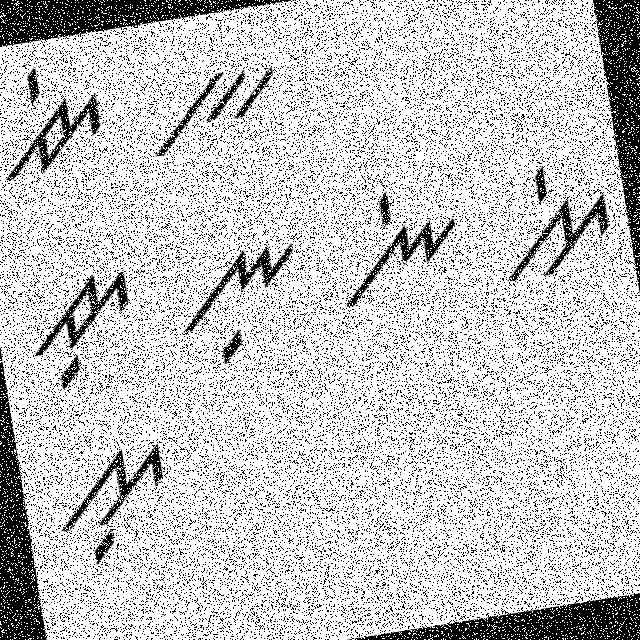je: (0, 52, 113, 191)
ju: (11, 252, 151, 400)
nye: (318, 167, 474, 316)
nyu: (166, 224, 314, 370)
se: (480, 148, 622, 294)
su: (41, 424, 184, 580)
